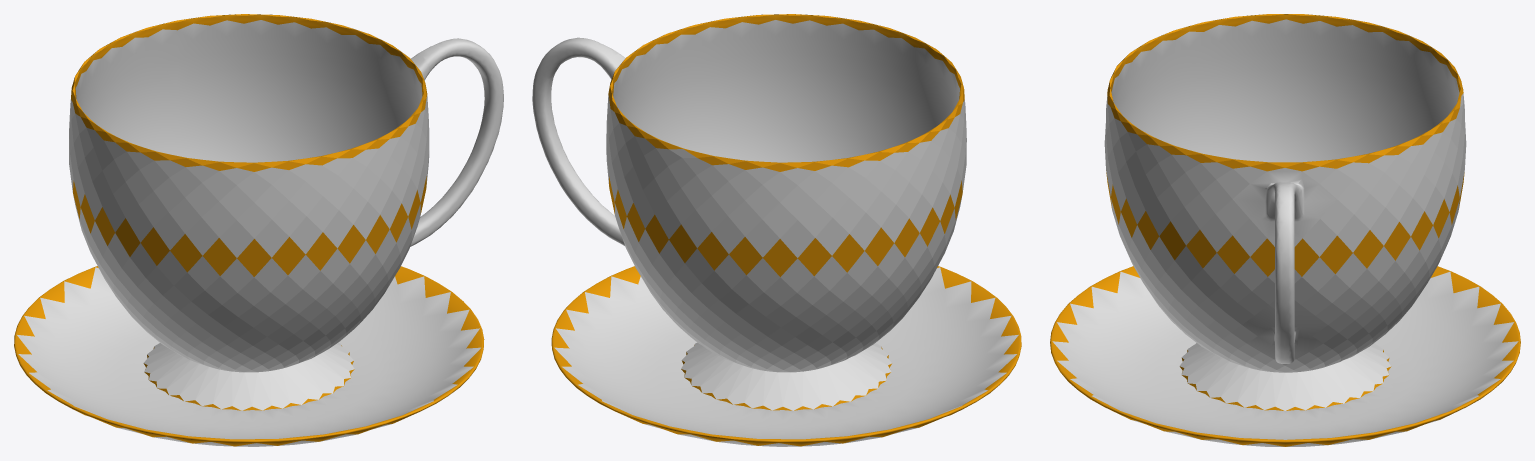
The model's file is Cup_Fancy.fbx.
3 views of the same model, side by side, from view 1: azimuth 30°, elevation 25°; view 2: azimuth 150°, elevation 25°; view 3: azimuth 270°, elevation 25° (orthographic).
Parts seen in each view (by area): view 1: Cup, Plate; view 2: Cup, Plate; view 3: Cup, Plate.
Boxes of the visible parts, x1=… form: Cup: x1=69, y1=14, x2=503, y2=410; Plate: x1=14, y1=266, x2=484, y2=446; Cup: x1=532, y1=14, x2=966, y2=410; Plate: x1=551, y1=266, x2=1021, y2=446; Cup: x1=1104, y1=14, x2=1466, y2=410; Plate: x1=1050, y1=266, x2=1520, y2=446.
Bounding box in the file's own units: 112 × 68.96 × 100.
